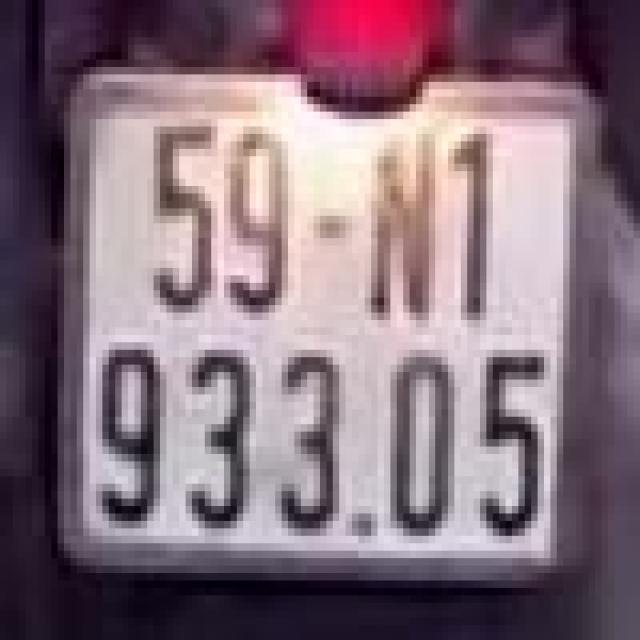0: (390, 342, 461, 544)
1: (454, 123, 500, 331)
3: (182, 327, 260, 536), (272, 342, 349, 544)
5: (467, 338, 557, 554), (140, 100, 218, 324)
9: (221, 108, 304, 331), (77, 339, 166, 532)
N: (362, 123, 444, 331)
